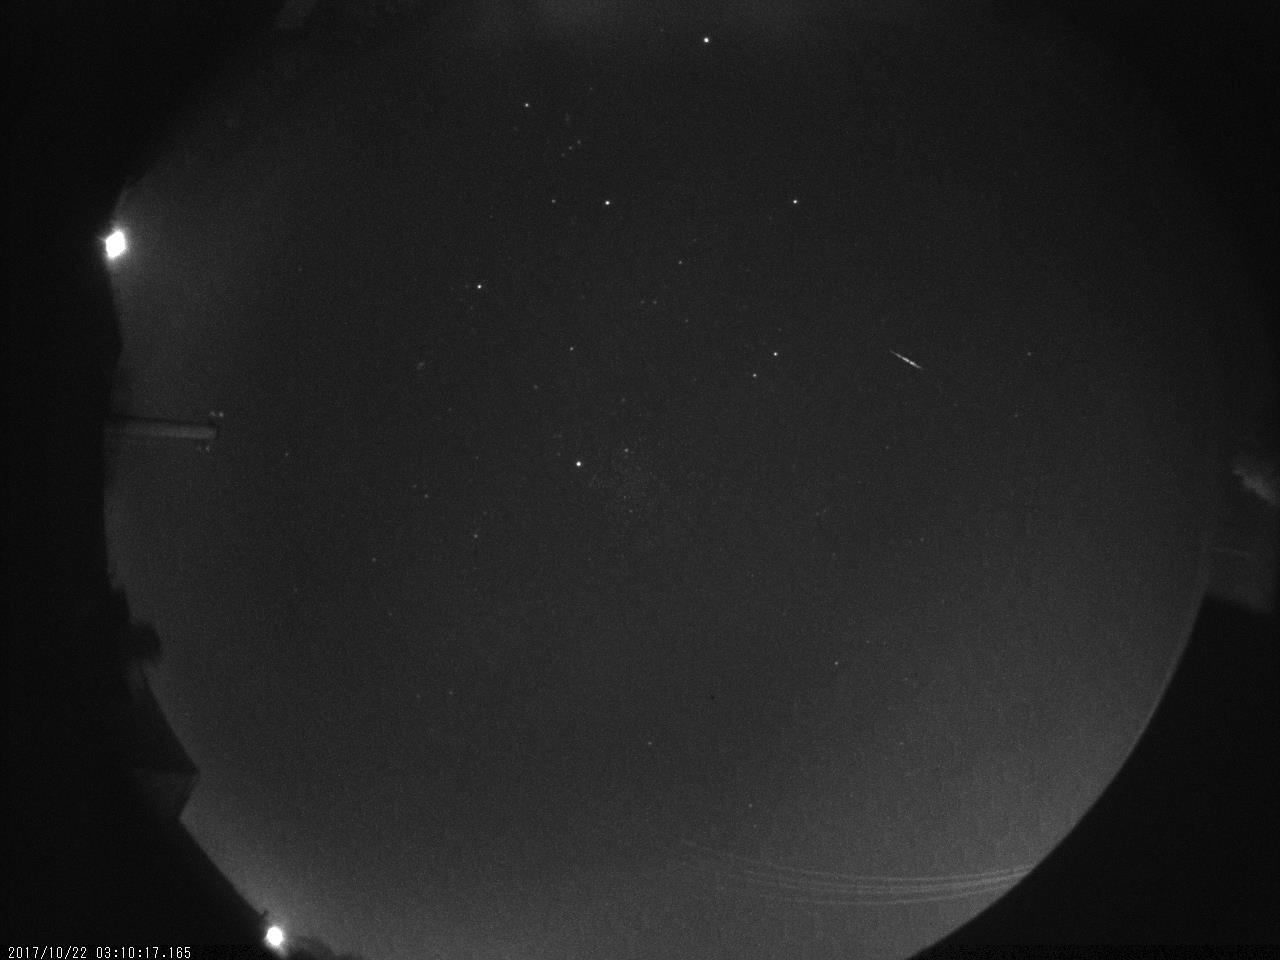meteor: (885, 344, 928, 372)
